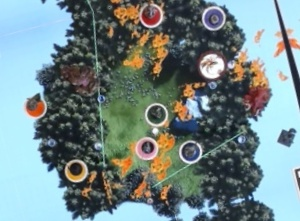blue: (174, 134, 207, 167)
green: (141, 97, 172, 130)
orange: (20, 91, 49, 120)
pink: (133, 131, 162, 160)
red: (133, 0, 168, 31)
violet: (198, 1, 230, 33)
yellow: (61, 153, 91, 184)
